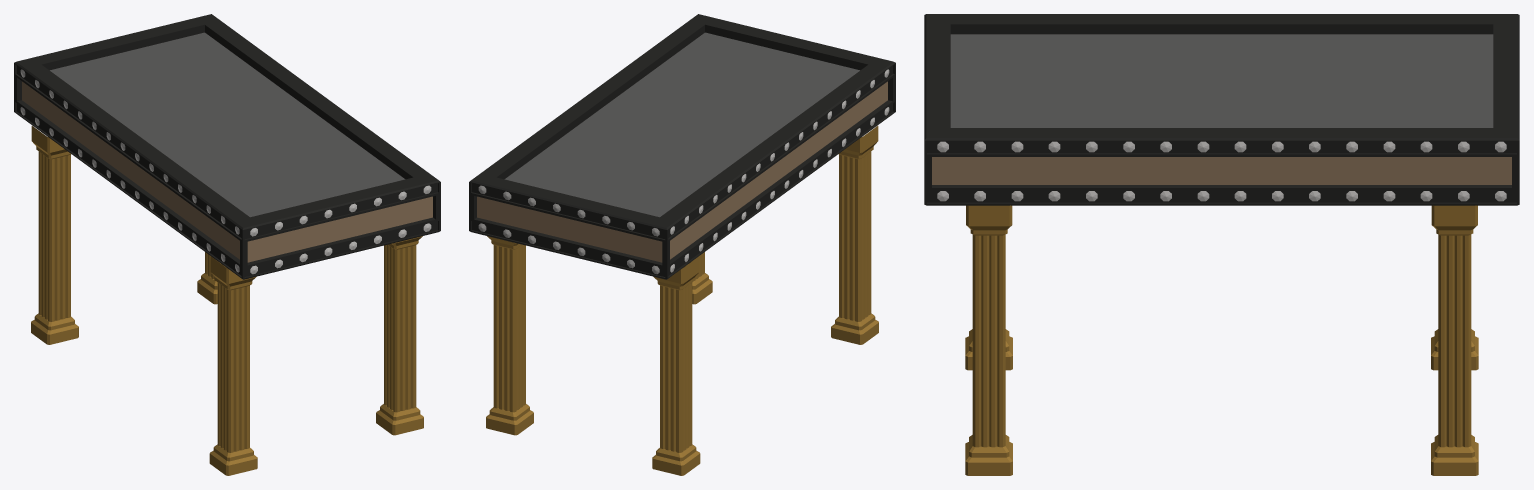
File: porte-coch-re-canopy-7230a8.glb
The picture shows the model from 3 angles, left to right: view 1: azimuth 30°, elevation 25°; view 2: azimuth 150°, elevation 25°; view 3: azimuth 270°, elevation 25°; orthographic projection. The views are drawn at different scales.
Visible parts, largest first — view 1: canopy; view 2: canopy; view 3: canopy.
Boxes of the visible parts, left/top/right/bottom form: canopy: left=14, top=14, right=440, bottom=475; canopy: left=469, top=14, right=895, bottom=475; canopy: left=924, top=14, right=1519, bottom=475.
Bounding box in the file's own units: 4 × 5 × 8.
